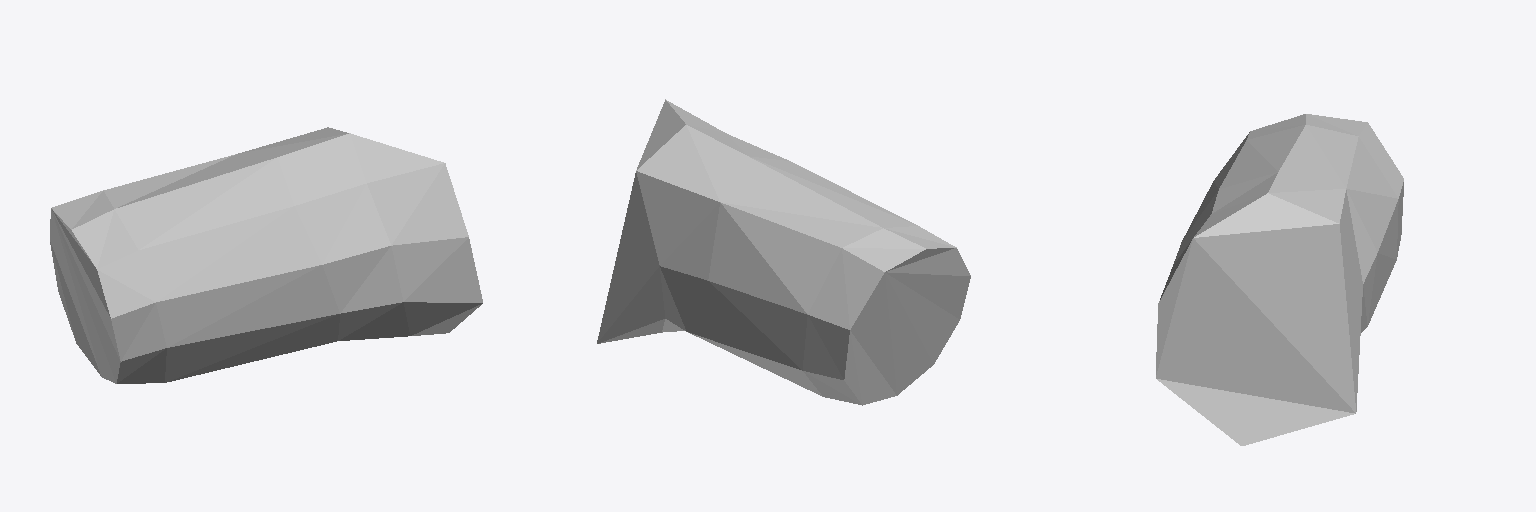
The model's file is index1.obj.
3 renders of one model, left to right at view 1: azimuth 30°, elevation 25°; view 2: azimuth 150°, elevation 25°; view 3: azimuth 270°, elevation 25°, orthographic.
Size of the model in its own units: 41.28 by 23.95 by 25.56.